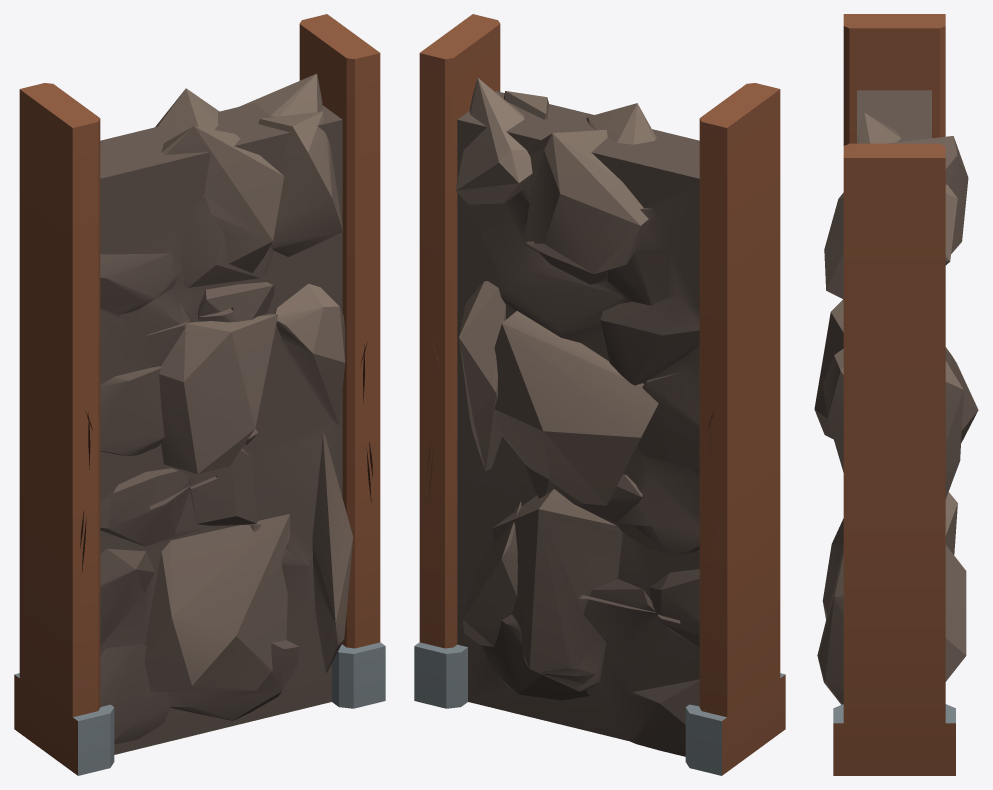
The model's file is wall_cave_half_A.glb.
3 views of the same model, side by side, from view 1: azimuth 30°, elevation 25°; view 2: azimuth 150°, elevation 25°; view 3: azimuth 270°, elevation 25° (orthographic). The views are drawn at different scales.
Visible parts, largest first — view 1: Item; view 2: Item; view 3: Item.
Part boxes in pixels (<box>): Item: <box>14,14,385,775</box>; Item: <box>414,14,785,775</box>; Item: <box>814,14,978,775</box>.
Bounding box in the file's own units: 2 × 4 × 0.9628.
1 material, 1 textured.
